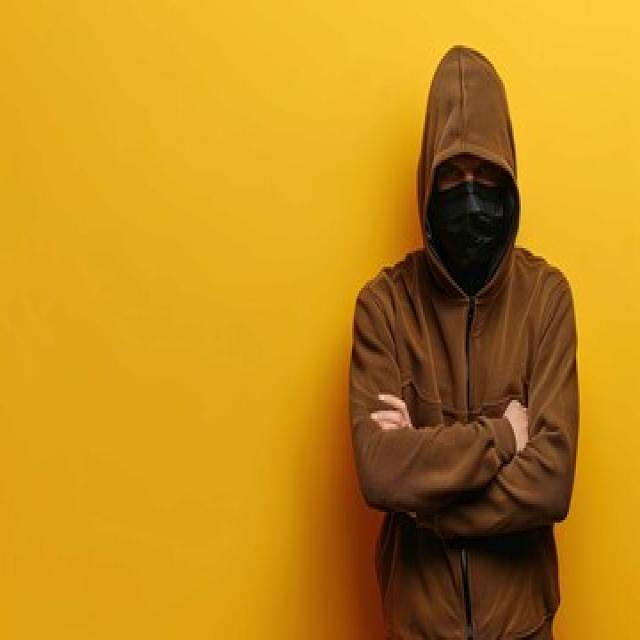handguns: (348, 61, 581, 640)
